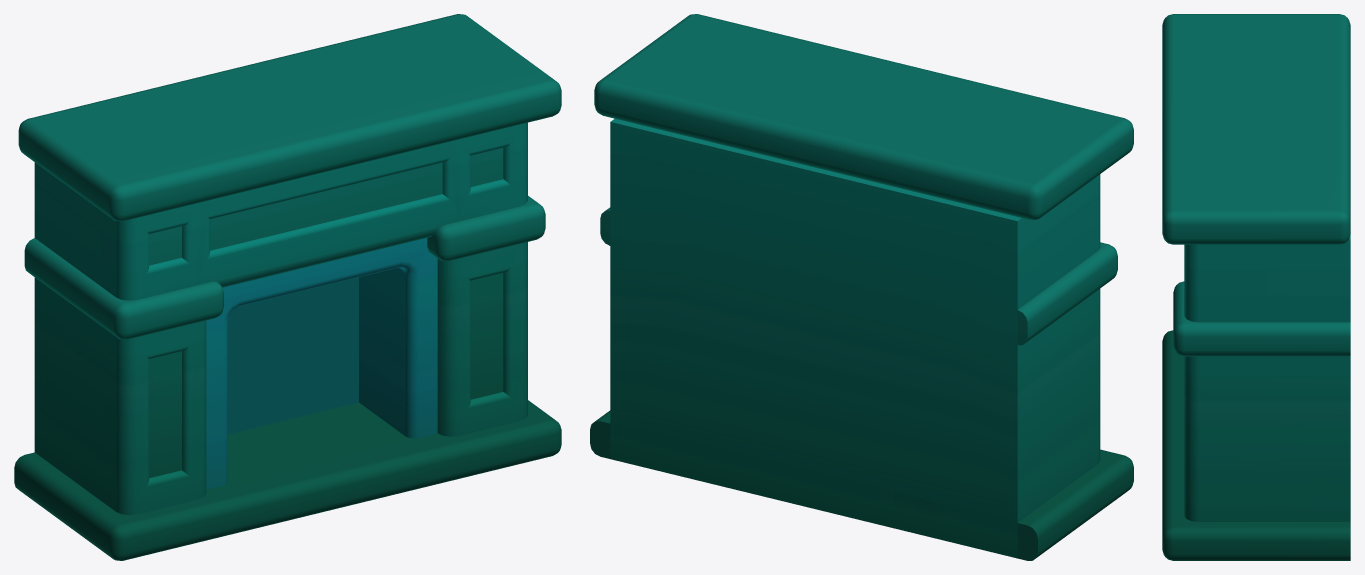
Rendered from Fireplace_02.glb.
3 views of the same model, side by side, from view 1: azimuth 30°, elevation 25°; view 2: azimuth 150°, elevation 25°; view 3: azimuth 270°, elevation 25° (orthographic). The views are drawn at different scales.
Parts seen in each view (by area): view 1: Fireplace_02; view 2: Fireplace_02; view 3: Fireplace_02.
Boxes of the visible parts, <box> form: Fireplace_02: <box>14,14,561,560</box>; Fireplace_02: <box>590,14,1133,560</box>; Fireplace_02: <box>1162,14,1350,560</box>.
Size of the model in its own units: 1.32 by 1.05 by 0.5125.
Materials: 1 (1 with a texture image).
